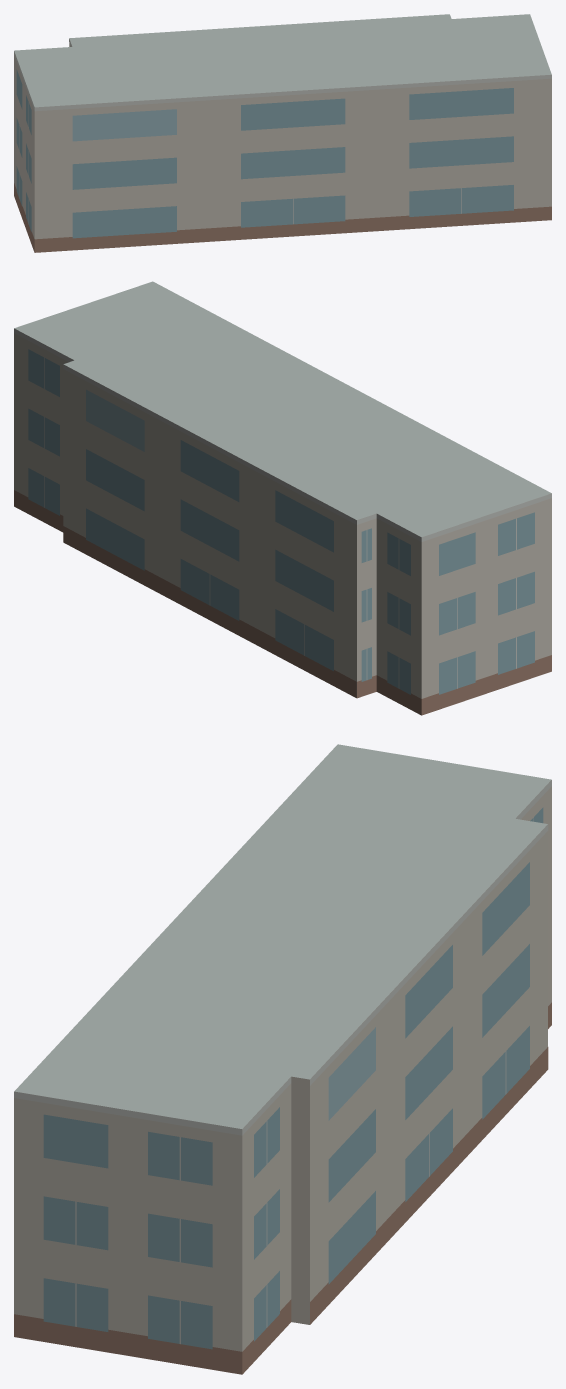
The model's file is survey-upis-32824919.glb.
3 views of the same model, one above another, from view 1: azimuth 30°, elevation 25°; view 2: azimuth 150°, elevation 25°; view 3: azimuth 270°, elevation 25° (orthographic). The views are drawn at different scales.
Parts seen in each view (by area): view 1: survey-upis-32824919.tmp; view 2: survey-upis-32824919.tmp; view 3: survey-upis-32824919.tmp.
Part boxes in pixels (left/top/right/bottom): survey-upis-32824919.tmp: left=14, top=14, right=551, bottom=252; survey-upis-32824919.tmp: left=14, top=281, right=551, bottom=715; survey-upis-32824919.tmp: left=14, top=744, right=551, bottom=1374.
Size of the model in its own units: 30.77 by 9.15 by 18.17.
